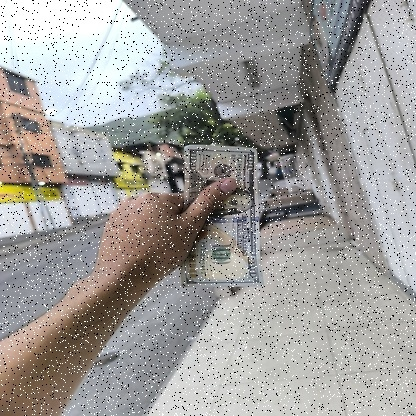one_hundred-front: (182, 140, 263, 287)
